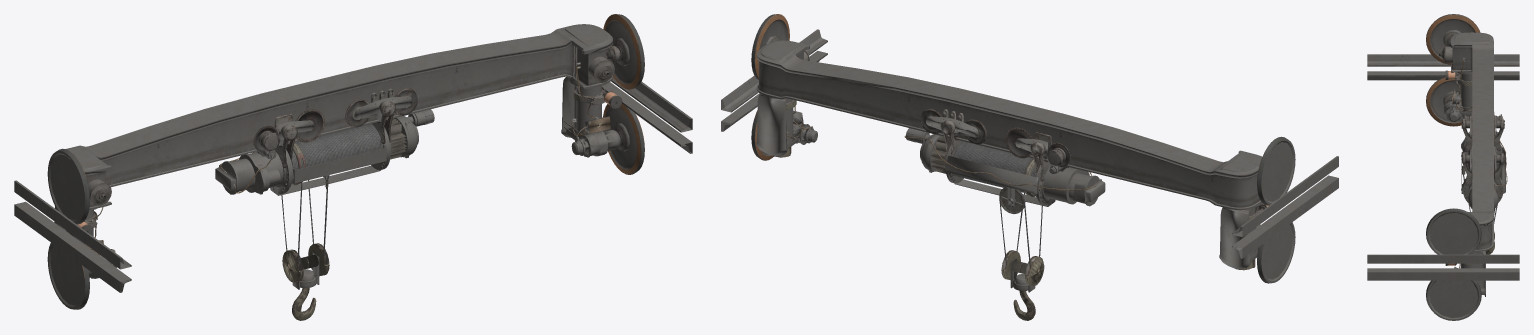
The model's file is overhead_crane.glb.
The picture shows the model from 3 angles, left to right: view 1: azimuth 30°, elevation 25°; view 2: azimuth 150°, elevation 25°; view 3: azimuth 270°, elevation 25°; orthographic projection. The views are drawn at different scales.
Parts seen in each view (by area): view 1: overhead_crane_rails, overhead_crane_winch; view 2: overhead_crane_rails, overhead_crane_winch; view 3: overhead_crane_rails, overhead_crane_winch.
Part boxes in pixels (bbox=[...]): overhead_crane_rails: bbox=[14, 20, 692, 309]; overhead_crane_winch: bbox=[56, 14, 644, 320]; overhead_crane_rails: bbox=[721, 19, 1338, 292]; overhead_crane_winch: bbox=[751, 14, 1287, 320]; overhead_crane_rails: bbox=[1367, 19, 1519, 320]; overhead_crane_winch: bbox=[1426, 14, 1506, 308].
Bounding box in the file's own units: 12.49 × 5.13 × 4.
Materials: 2 (2 with a texture image).
